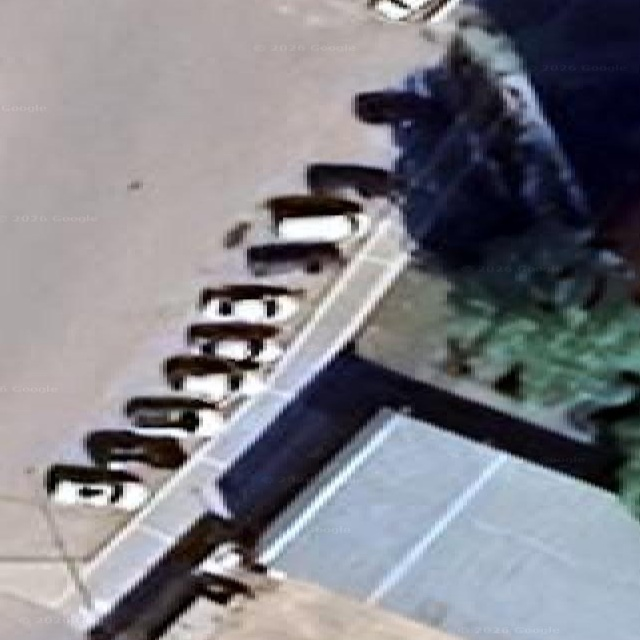car: (88, 510, 252, 639), (136, 573, 252, 639), (180, 540, 281, 609), (159, 507, 251, 575), (264, 193, 367, 240), (44, 464, 147, 510), (163, 355, 263, 400), (123, 393, 223, 436), (199, 283, 303, 323), (567, 392, 639, 447), (84, 430, 186, 467), (187, 323, 281, 363), (195, 540, 281, 583), (304, 163, 403, 199), (247, 241, 344, 276), (353, 89, 442, 123), (264, 193, 360, 220), (367, 0, 460, 20), (196, 572, 252, 604), (196, 540, 243, 575), (567, 400, 600, 435), (223, 220, 249, 247), (200, 483, 216, 502), (116, 632, 132, 635), (95, 633, 115, 635), (172, 613, 175, 619), (632, 380, 635, 384), (212, 569, 215, 572), (251, 535, 252, 539), (632, 373, 633, 375), (615, 407, 617, 408)
